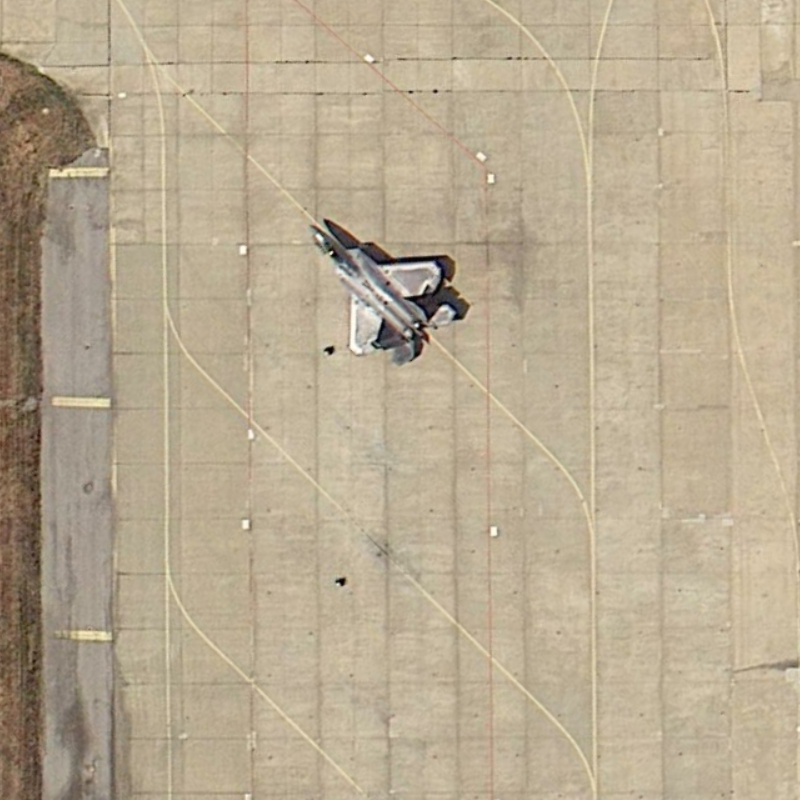A15: (296, 211, 475, 375)
